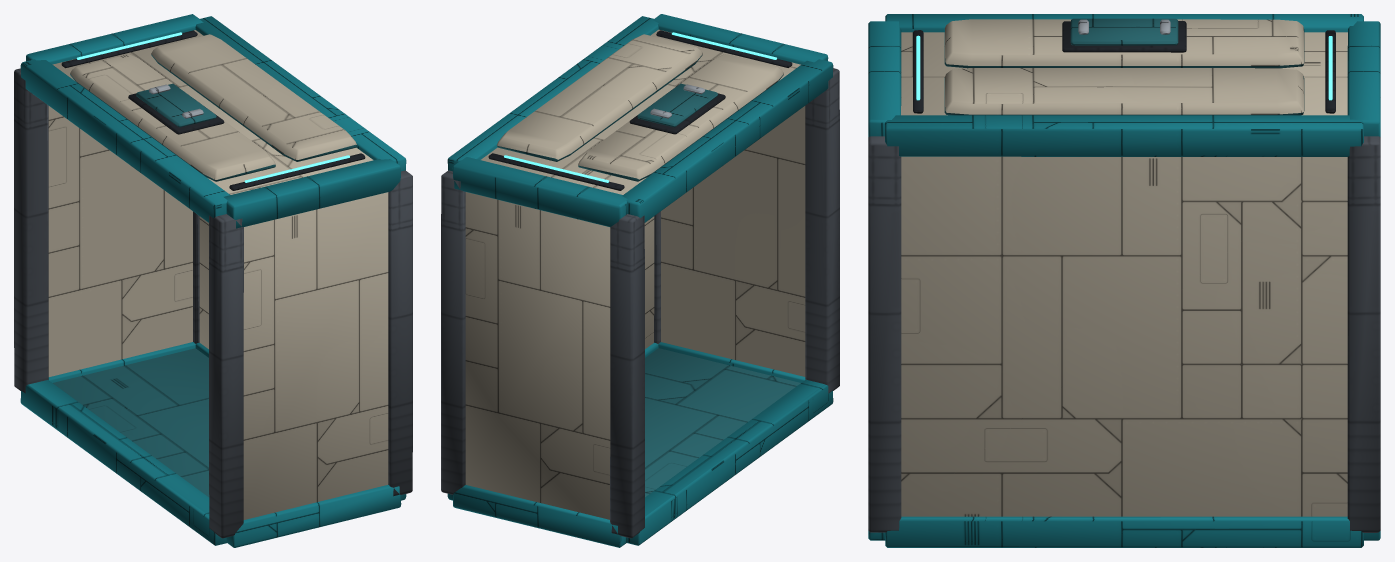
The model's file is blank_endcap_lod1.glb.
3 renders of one model, left to right at view 1: azimuth 30°, elevation 25°; view 2: azimuth 150°, elevation 25°; view 3: azimuth 270°, elevation 25°, orthographic. The views are drawn at different scales.
Visible parts, largest first — view 1: LOD1_Hull, LOD1_Livery, LOD1_Mechanical, LOD1_Armor, LOD1_MechanicalDark, LOD1_Lights_Cyan; view 2: LOD1_Hull, LOD1_Livery, LOD1_Mechanical, LOD1_Armor, LOD1_MechanicalDark, LOD1_Lights_Cyan; view 3: LOD1_Hull, LOD1_Livery, LOD1_Mechanical, LOD1_Armor, LOD1_MechanicalDark, LOD1_Lights_Cyan.
Part boxes in pixels (box(x1,y1,x2,y2)): LOD1_Hull: box(48, 30, 388, 519); LOD1_Livery: box(20, 14, 406, 547); LOD1_Mechanical: box(14, 68, 412, 538); LOD1_Armor: box(53, 54, 356, 497); LOD1_MechanicalDark: box(61, 30, 365, 190); LOD1_Lights_Cyan: box(77, 32, 349, 182); LOD1_Hull: box(465, 29, 805, 519); LOD1_Livery: box(447, 14, 833, 547); LOD1_Mechanical: box(441, 68, 839, 538); LOD1_Armor: box(497, 54, 800, 497); LOD1_MechanicalDark: box(488, 30, 792, 190); LOD1_Lights_Cyan: box(504, 32, 776, 182); LOD1_Hull: box(901, 19, 1347, 516); LOD1_Livery: box(868, 14, 1380, 547); LOD1_Mechanical: box(868, 136, 1380, 532); LOD1_Armor: box(944, 18, 1304, 115); LOD1_MechanicalDark: box(913, 21, 1335, 113); LOD1_Lights_Cyan: box(916, 35, 1332, 100).
Bounding box in the file's own units: 2.28 × 4.09 × 4.28.
Materials: 7 (6 with a texture image).
